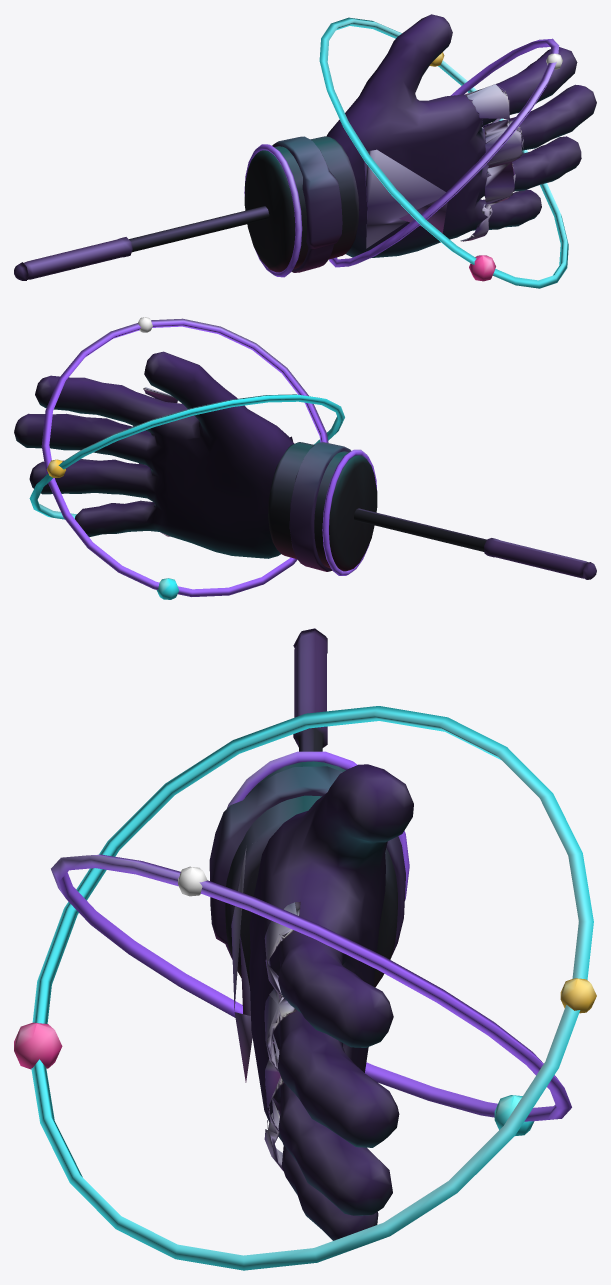
File: glove_gravity.glb
The picture shows the model from 3 angles, top to bottom: view 1: azimuth 30°, elevation 25°; view 2: azimuth 150°, elevation 25°; view 3: azimuth 270°, elevation 25°; orthographic projection. The views are drawn at different scales.
Parts seen in each view (by area): view 1: Glove, Glow, Stick; view 2: Glove, Glow, Stick; view 3: Glove, Glow, Stick.
Part boxes in pixels (x1,y1,x2,y2): Glove: [244, 14, 596, 272]; Glow: [244, 17, 568, 288]; Stick: [14, 206, 269, 280]; Glove: [14, 351, 377, 571]; Glow: [29, 317, 377, 599]; Stick: [354, 508, 596, 579]; Glove: [209, 761, 413, 1240]; Glow: [14, 706, 596, 1270]; Stick: [293, 628, 327, 751].
Bounding box in the file's own units: 1.17 × 0.4311 × 0.549.
